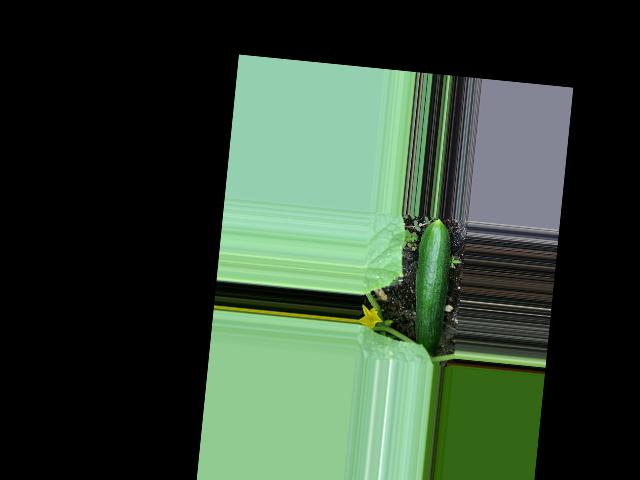cucumber: (408, 217, 455, 353)
